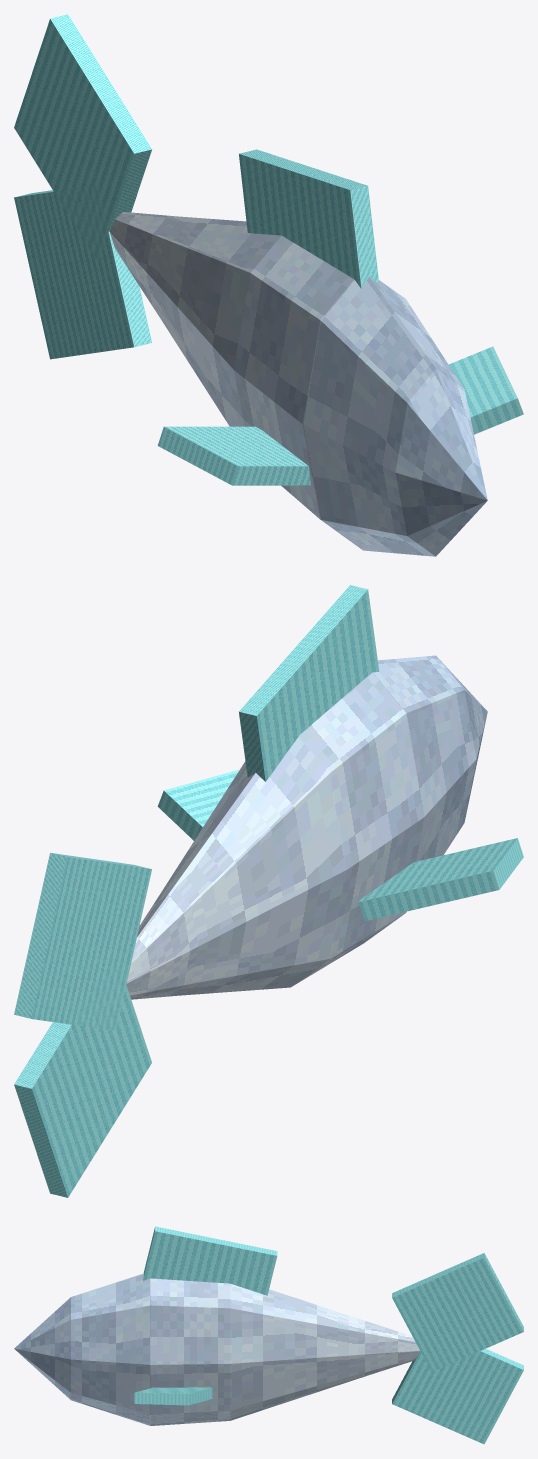
The model's file is carpa_lua.glb.
3 views of the same model, one above another, from view 1: azimuth 30°, elevation 25°; view 2: azimuth 150°, elevation 25°; view 3: azimuth 270°, elevation 25° (orthographic). The views are drawn at different scales.
Parts seen in each view (by area): view 1: carpa_lua; view 2: carpa_lua; view 3: carpa_lua.
Part boxes in pixels (bbox=[...]): carpa_lua: bbox=[14, 14, 523, 556]; carpa_lua: bbox=[14, 585, 523, 1197]; carpa_lua: bbox=[14, 1226, 523, 1444].
Size of the model in its own units: 0.3803 by 0.4135 by 0.8958.
1 material, 1 textured.
